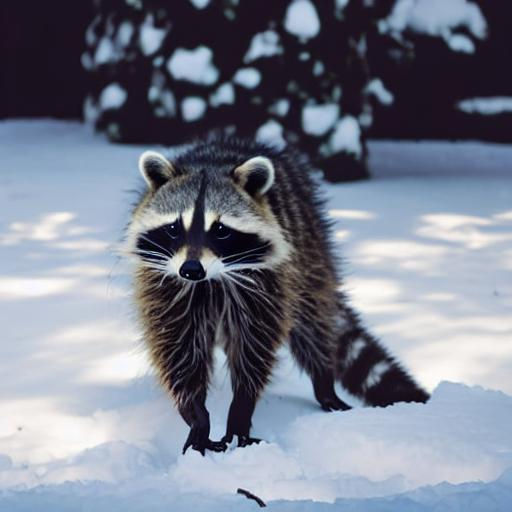raccoon: (107, 119, 439, 432)
